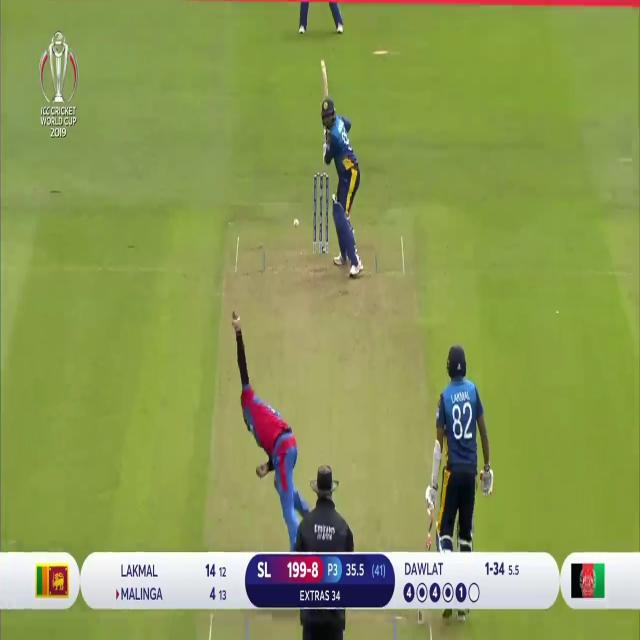ball: (292, 217, 302, 229)
